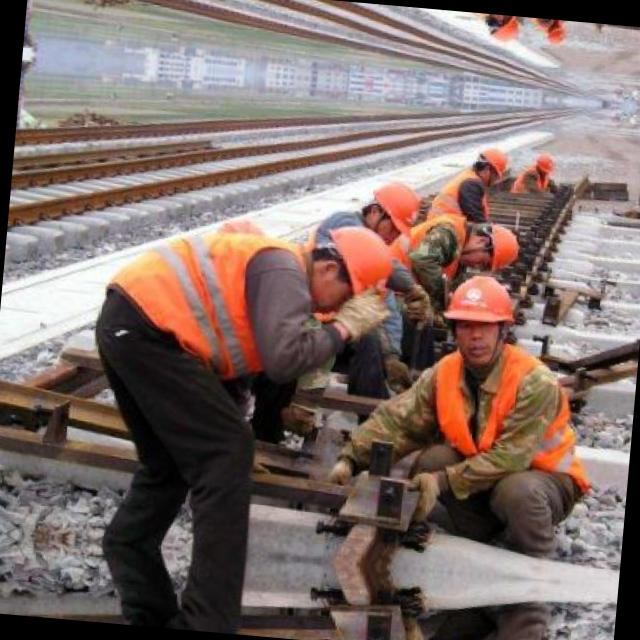helmet: (292, 219, 401, 314), (435, 266, 523, 371), (356, 174, 423, 249), (466, 219, 518, 280), (474, 146, 508, 182), (486, 14, 520, 46), (544, 20, 566, 48), (533, 152, 554, 180)
